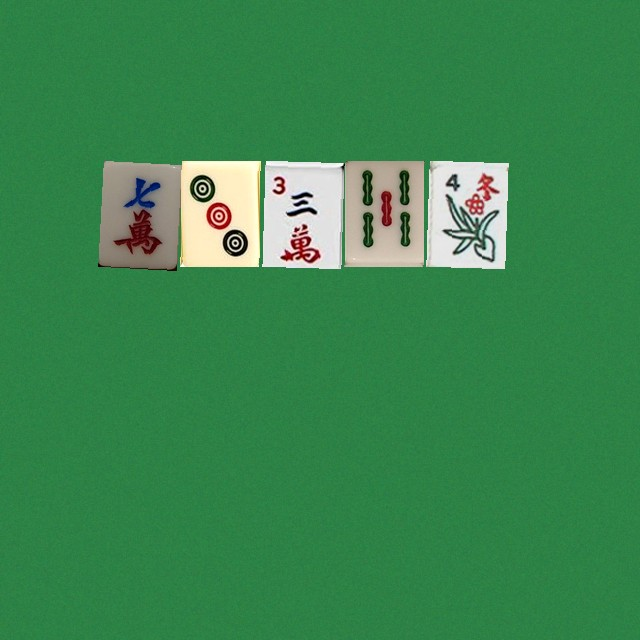tile: (98, 160, 177, 266), (180, 160, 259, 266), (262, 160, 341, 266), (344, 160, 423, 266), (426, 160, 505, 266)
